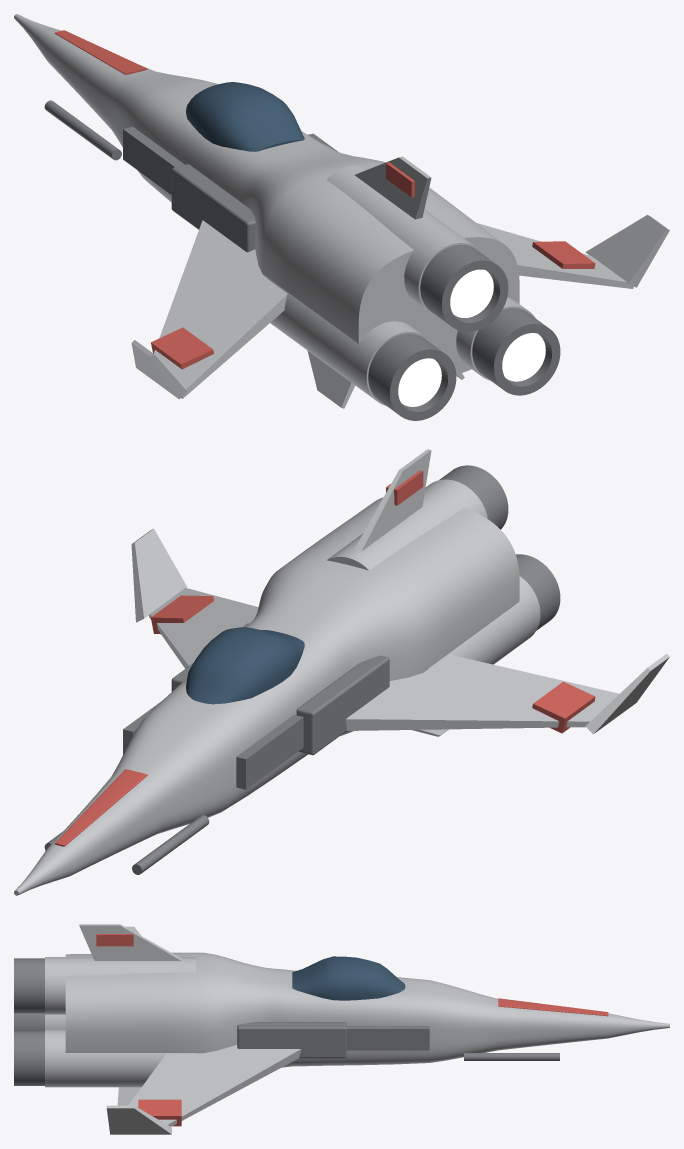
The model's file is anglerfish.glb.
3 views of the same model, one above another, from view 1: azimuth 30°, elevation 25°; view 2: azimuth 150°, elevation 25°; view 3: azimuth 270°, elevation 25° (orthographic). The views are drawn at different scales.
Visible parts, largest first — view 1: anglerfish_hull; view 2: anglerfish_hull; view 3: anglerfish_hull.
Boxes of the visible parts, left/top/right/bottom form: anglerfish_hull: left=14, top=14, right=669, bottom=420; anglerfish_hull: left=14, top=449, right=669, bottom=895; anglerfish_hull: left=14, top=924, right=669, bottom=1134.
Bounding box in the file's own units: 6.24 × 2.71 × 9.55.
